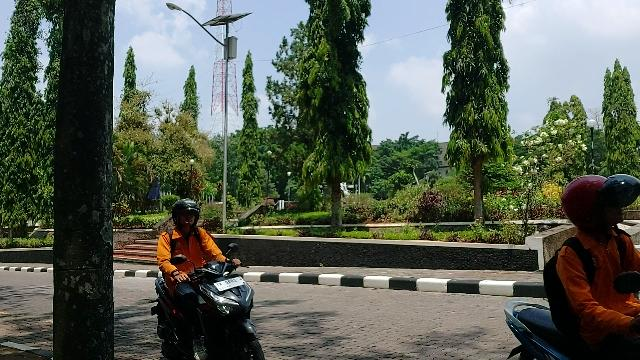helm: (559, 172, 640, 237), (171, 200, 203, 233)
motor: (150, 242, 268, 360)
